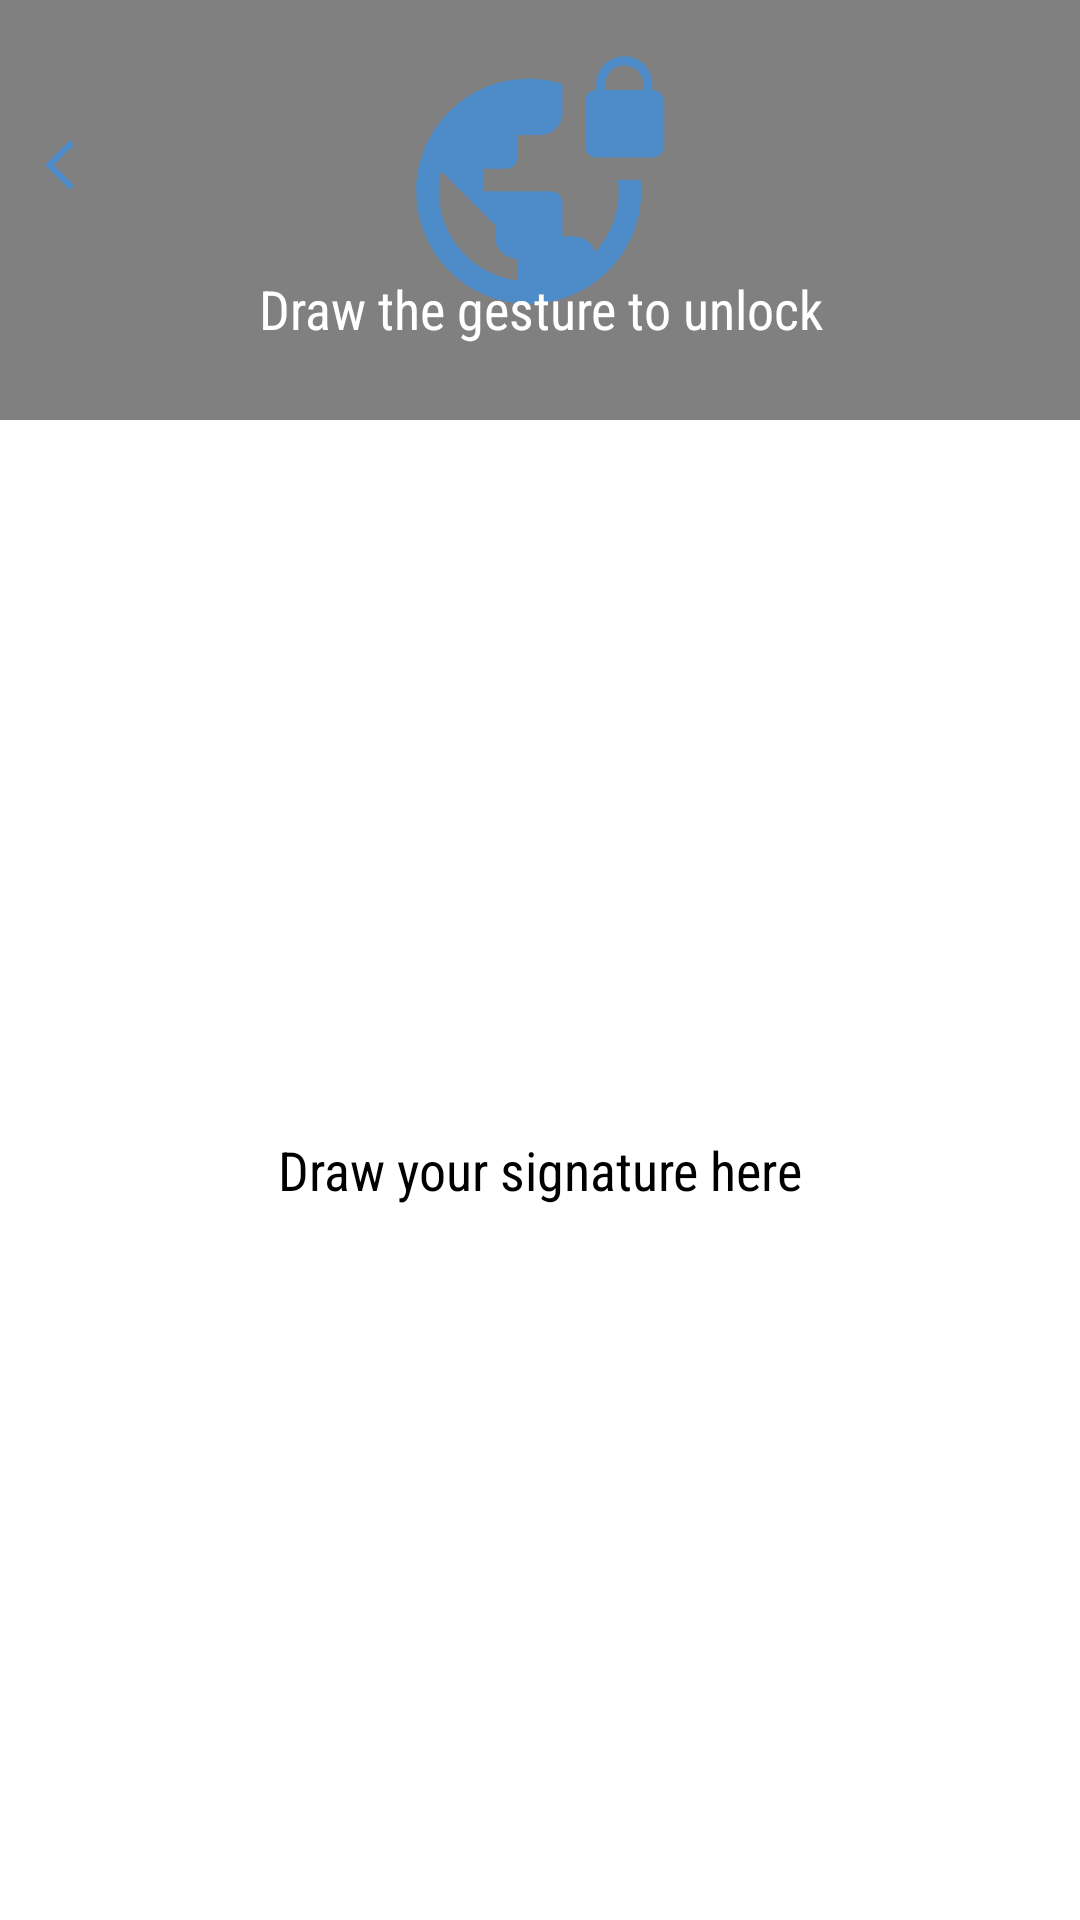

Where to tap for icons on this 1080px x 1920px app screen, as (x,y):
back: (59,165)
vpn lock: (537,185)
